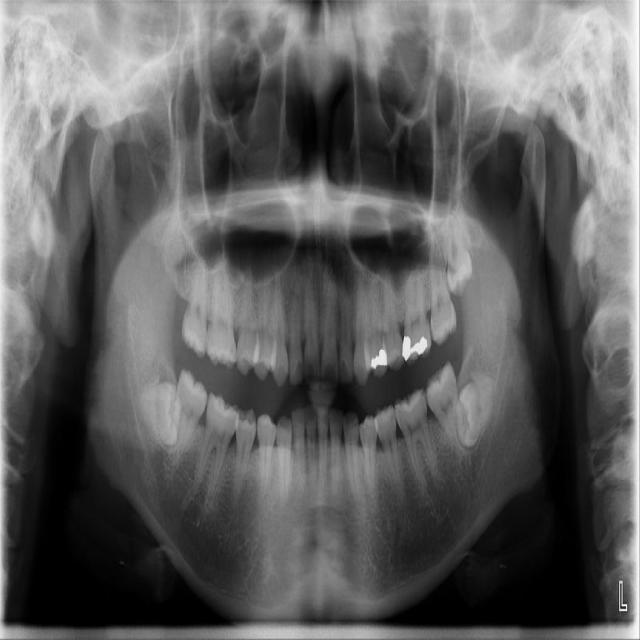52: (401, 317, 433, 369), (363, 332, 389, 380)
73: (603, 582, 612, 602)
BioHorizons Implant: (430, 230, 456, 347)
BioLife Implant: (445, 212, 474, 297)
Biomet 3i Implant: (450, 372, 498, 451)
Blue Sky Bio Implant: (420, 359, 469, 459)
Caries: (179, 251, 209, 359)
Implant: (166, 368, 212, 469)
Keystone Dental Implant: (140, 382, 182, 445)
